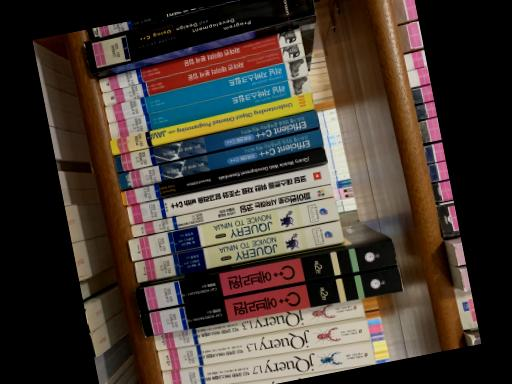book-spine: (135, 241, 396, 312), (139, 269, 402, 337), (82, 0, 314, 74), (126, 198, 338, 262), (104, 58, 308, 123), (107, 76, 310, 140), (98, 29, 300, 93), (109, 93, 313, 156), (134, 221, 343, 282), (114, 110, 318, 172), (101, 44, 304, 106), (126, 164, 330, 225), (117, 130, 322, 190), (119, 148, 326, 204), (156, 318, 369, 371), (152, 299, 364, 350), (130, 185, 333, 237), (161, 342, 374, 384), (85, 1, 234, 40), (240, 371, 342, 384)
